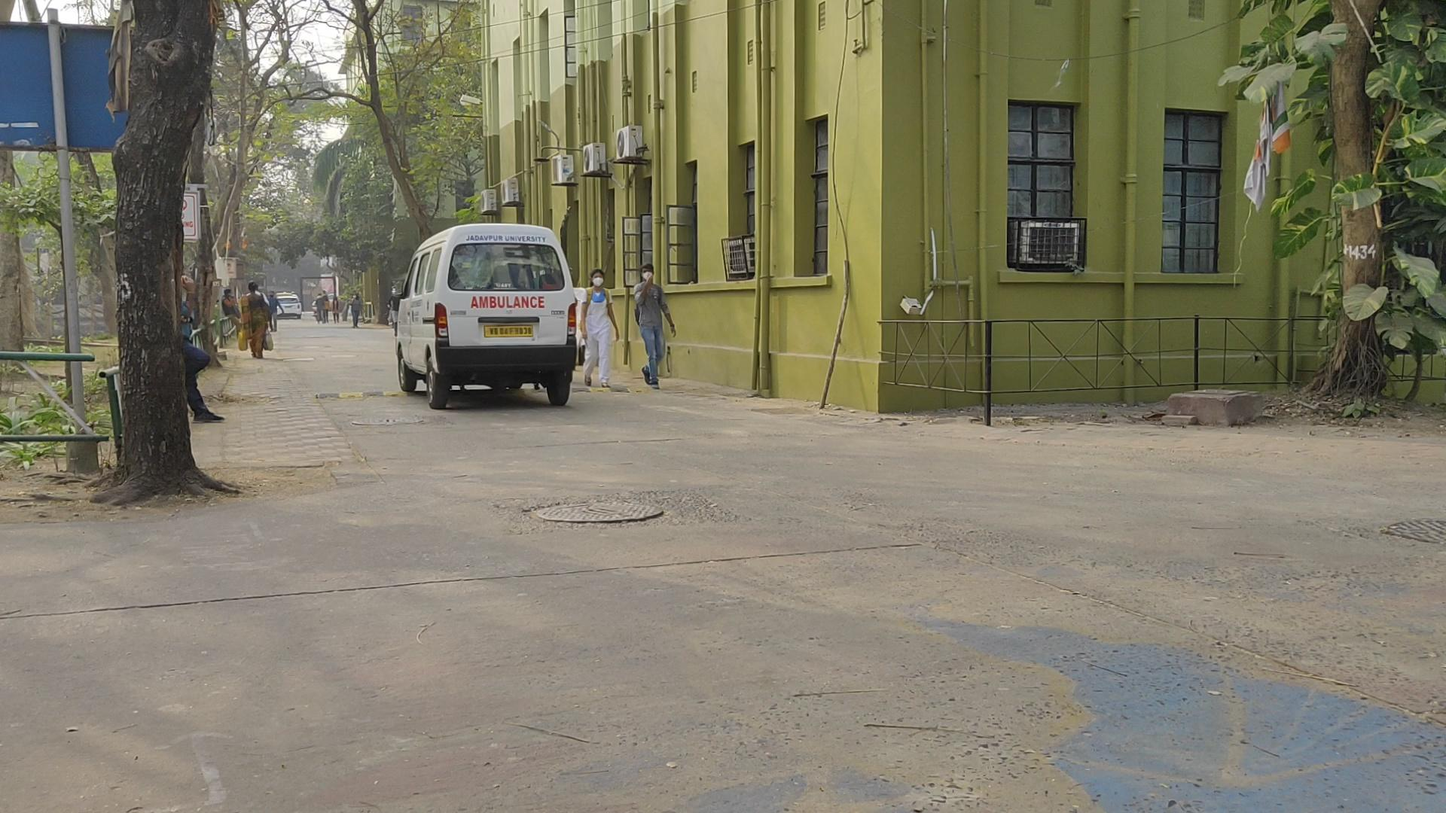car: (273, 294, 302, 320)
van: (397, 224, 578, 413)
